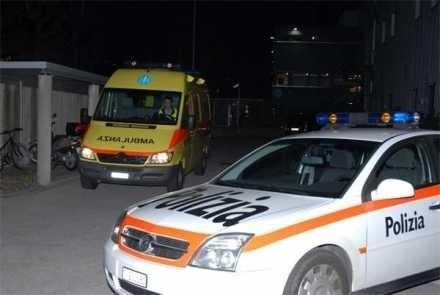car: (76, 59, 213, 190)
